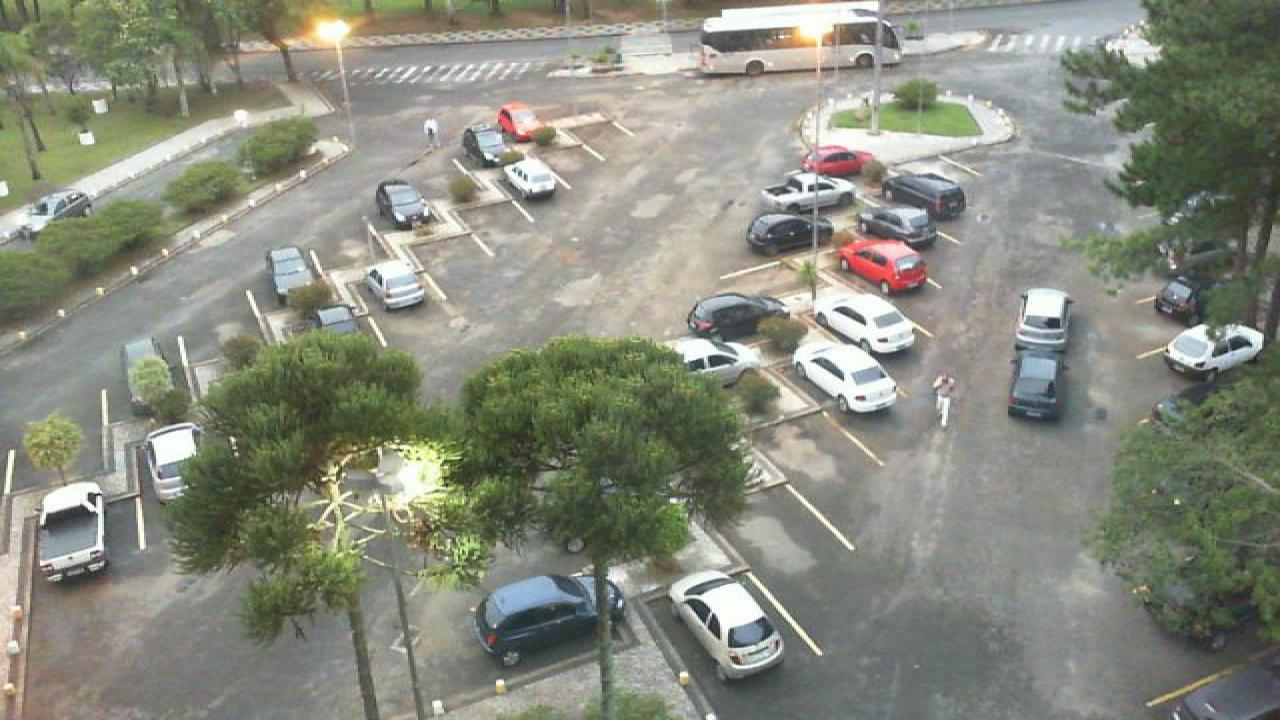Car: (470, 574, 626, 667), (670, 569, 786, 683), (794, 341, 902, 415), (32, 482, 110, 582), (816, 289, 920, 357), (1164, 320, 1268, 382), (832, 239, 932, 297), (684, 291, 790, 340), (1004, 346, 1072, 422), (142, 421, 204, 504), (668, 336, 758, 391), (118, 334, 178, 411), (746, 212, 850, 256), (758, 171, 860, 215), (884, 170, 970, 222), (1014, 287, 1076, 354), (860, 204, 940, 250), (266, 246, 320, 308), (364, 260, 428, 312), (1152, 270, 1212, 323), (496, 154, 562, 200), (374, 178, 432, 229), (788, 144, 866, 179), (22, 189, 96, 222), (496, 101, 552, 144), (462, 122, 514, 166), (312, 304, 366, 343)
